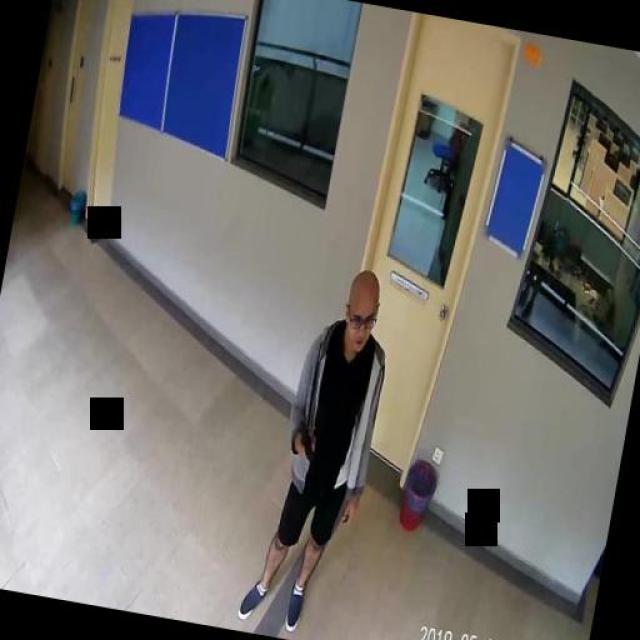gun: (292, 418, 318, 462)
